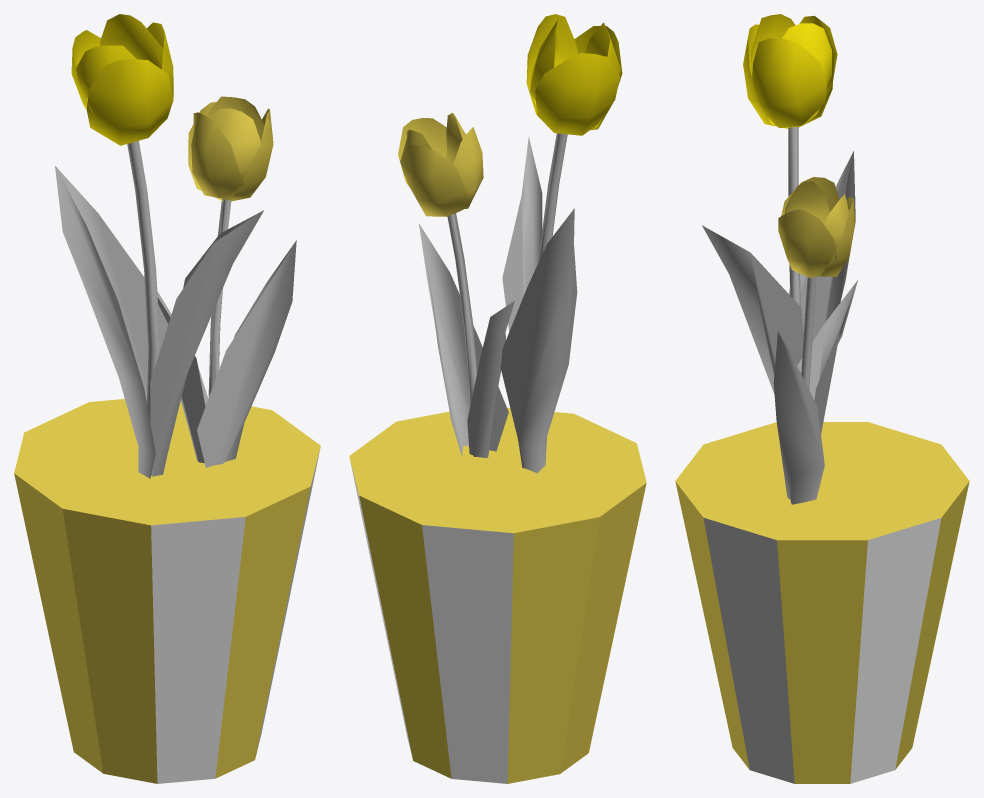
The model's file is s_çiçek.obj.
The picture shows the model from 3 angles, left to right: view 1: azimuth 30°, elevation 25°; view 2: azimuth 150°, elevation 25°; view 3: azimuth 270°, elevation 25°; orthographic projection. The views are drawn at different scales.
Parts seen in each view (by area): view 1: Cylinder.064_m_yellow, Cylinder.064_m_açıkgreen, Cylinder.064_m_white, Cylinder.064_oje_sarı; view 2: Cylinder.064_m_yellow, Cylinder.064_m_açıkgreen, Cylinder.064_m_white, Cylinder.064_oje_sarı; view 3: Cylinder.064_m_yellow, Cylinder.064_m_white, Cylinder.064_m_açıkgreen, Cylinder.064_oje_sarı.
Part boxes in pixels (x1,y1,x2,y2): Cylinder.064_m_yellow: [14, 96, 320, 783]; Cylinder.064_m_açıkgreen: [55, 141, 296, 478]; Cylinder.064_m_white: [151, 450, 319, 783]; Cylinder.064_oje_sarı: [71, 14, 173, 145]; Cylinder.064_m_yellow: [349, 112, 646, 783]; Cylinder.064_m_açıkgreen: [419, 133, 577, 473]; Cylinder.064_m_white: [350, 461, 513, 783]; Cylinder.064_oje_sarı: [526, 14, 622, 135]; Cylinder.064_m_yellow: [675, 177, 969, 783]; Cylinder.064_m_white: [703, 517, 941, 783]; Cylinder.064_m_açıkgreen: [702, 127, 857, 504]; Cylinder.064_oje_sarı: [743, 14, 837, 128].
Size of the model in its own units: 5.24 by 14.51 by 5.51.
